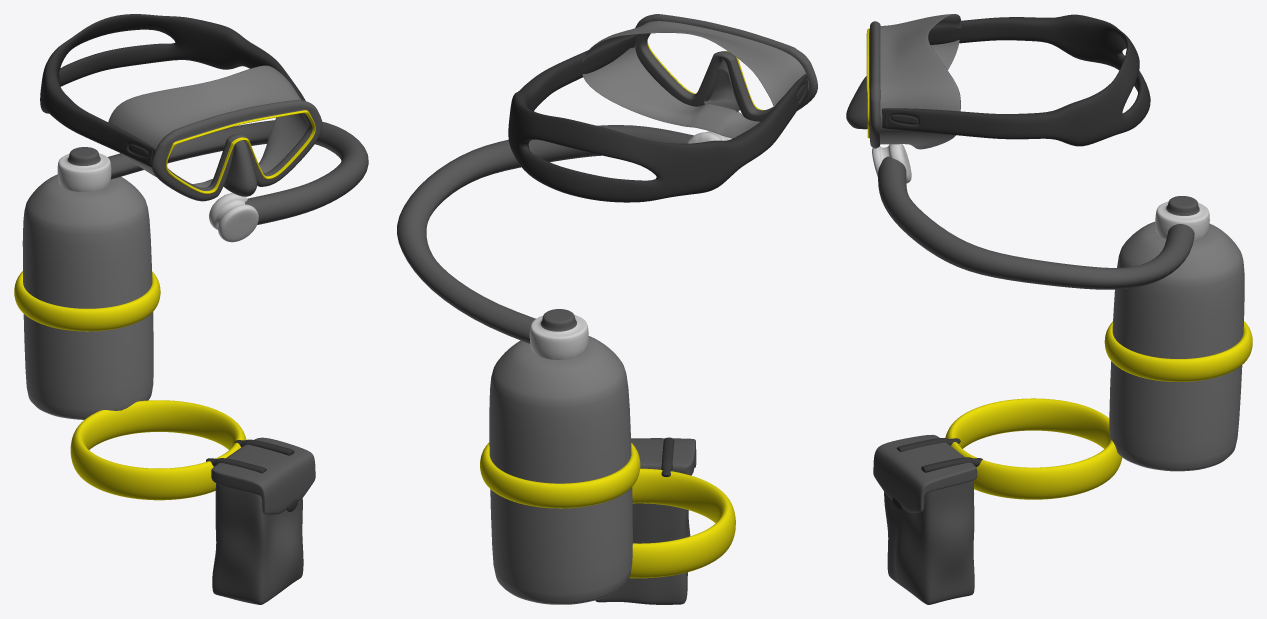
The model's file is avatarScuba.fbx.
The picture shows the model from 3 angles, left to right: view 1: azimuth 30°, elevation 25°; view 2: azimuth 150°, elevation 25°; view 3: azimuth 270°, elevation 25°; orthographic projection. The views are drawn at different scales.
Parts seen in each view (by area): view 1: scuba; view 2: scuba; view 3: scuba.
Boxes of the visible parts, x1=… form: scuba: x1=14, y1=14, x2=368, y2=604; scuba: x1=397, y1=14, x2=817, y2=604; scuba: x1=846, y1=14, x2=1252, y2=604.
Size of the model in its own units: 37 by 61.82 by 43.02.
